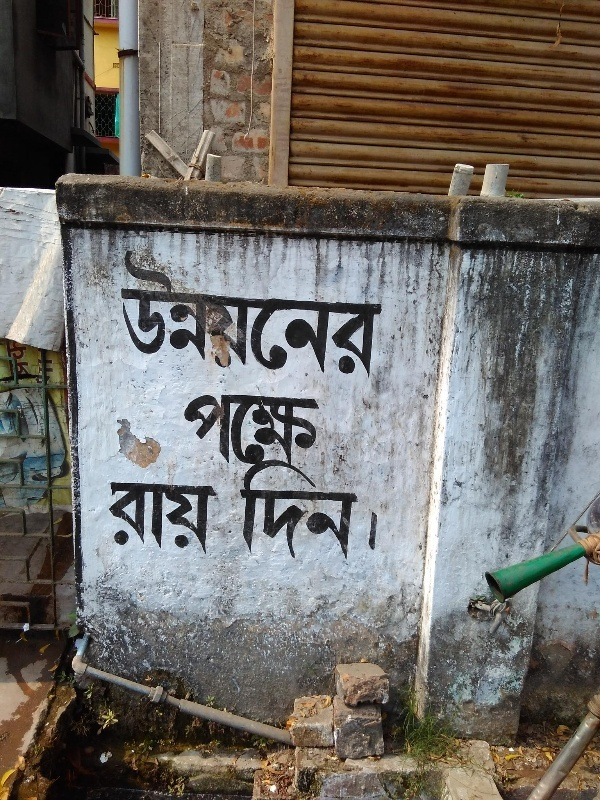text: (129, 247, 144, 381), (145, 247, 160, 381), (161, 247, 176, 381), (177, 247, 192, 381), (193, 247, 208, 381), (209, 247, 224, 381), (225, 247, 240, 381), (241, 247, 256, 381), (257, 247, 272, 381), (273, 247, 288, 381), (289, 247, 304, 381), (305, 247, 320, 381), (321, 247, 336, 381), (337, 247, 352, 381), (353, 247, 368, 381), (369, 247, 384, 381), (257, 438, 272, 565), (273, 438, 288, 565), (289, 438, 304, 565), (305, 438, 320, 565), (321, 438, 336, 565), (337, 438, 352, 565), (353, 438, 368, 565), (369, 438, 384, 565), (242, 438, 256, 565), (118, 247, 128, 381), (193, 388, 208, 467), (209, 388, 224, 467), (225, 388, 240, 467), (241, 388, 256, 467), (257, 388, 272, 467), (273, 388, 288, 467), (289, 388, 304, 467), (305, 388, 320, 467), (113, 478, 128, 556), (129, 478, 144, 556), (145, 478, 160, 556), (161, 478, 176, 556), (177, 478, 192, 556), (193, 478, 208, 556), (209, 478, 219, 556), (385, 247, 390, 381), (185, 388, 192, 467), (108, 478, 112, 556), (385, 438, 387, 565), (321, 388, 324, 467)
